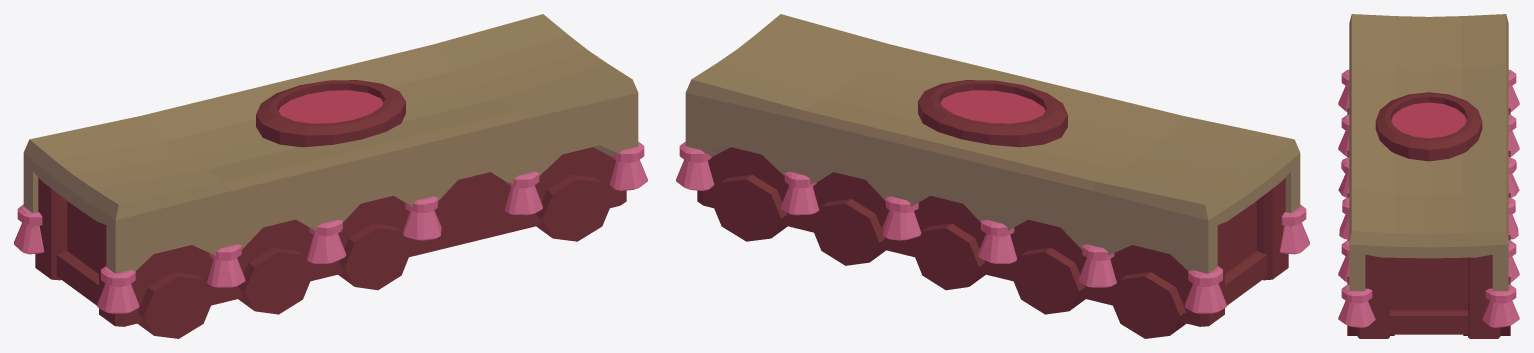
The model's file is NoteBlock3x1 1.fbx.
3 renders of one model, left to right at view 1: azimuth 30°, elevation 25°; view 2: azimuth 150°, elevation 25°; view 3: azimuth 270°, elevation 25°, orthographic. The views are drawn at different scales.
Parts seen in each view (by area): view 1: NoteCube3x1; view 2: NoteCube3x1; view 3: NoteCube3x1.
Part boxes in pixels (box(x1,y1,x2,y2)): NoteCube3x1: box(14, 14, 647, 338); NoteCube3x1: box(676, 14, 1309, 338); NoteCube3x1: box(1338, 14, 1519, 338).
Bounding box in the file's own units: 612 × 164 × 205.
